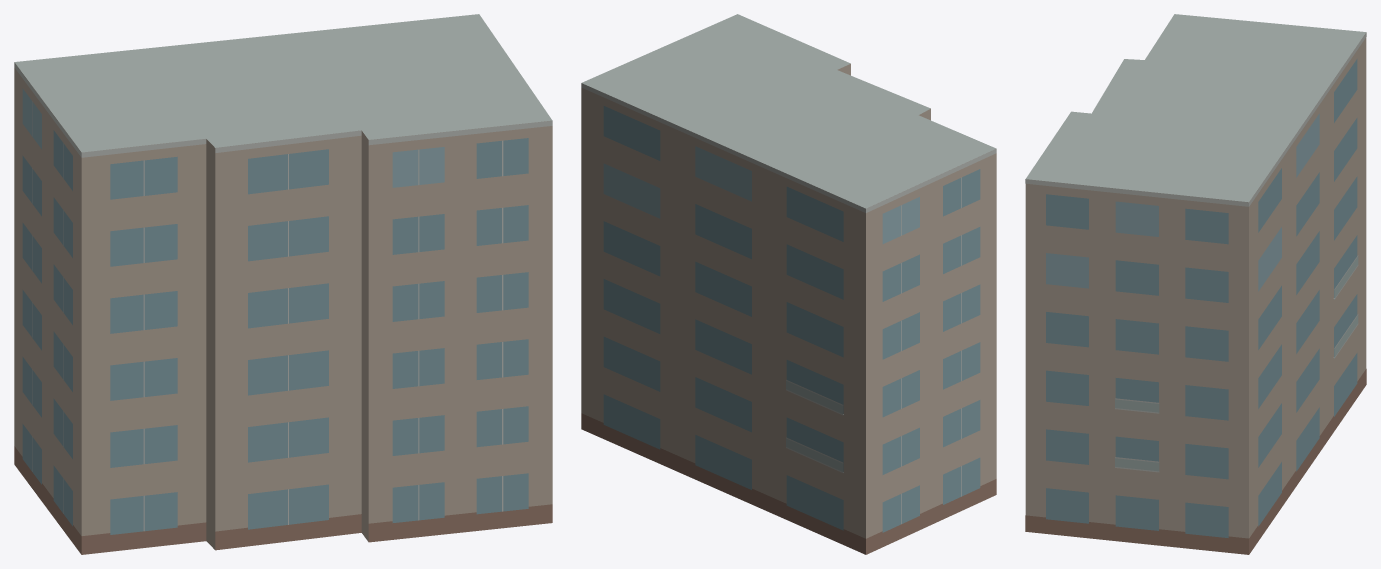
File: survey-upis-32953694.glb
3 views of the same model, side by side, from view 1: azimuth 30°, elevation 25°; view 2: azimuth 150°, elevation 25°; view 3: azimuth 270°, elevation 25° (orthographic). The views are drawn at different scales.
Parts seen in each view (by area): view 1: survey-upis-32953694.tmp; view 2: survey-upis-32953694.tmp; view 3: survey-upis-32953694.tmp.
Part boxes in pixels (box(x1,y1,x2,y2)): survey-upis-32953694.tmp: box(14, 14, 552, 554); survey-upis-32953694.tmp: box(581, 14, 996, 554); survey-upis-32953694.tmp: box(1025, 14, 1366, 554).
Size of the model in its own units: 21.3 by 18.6 by 16.31.
